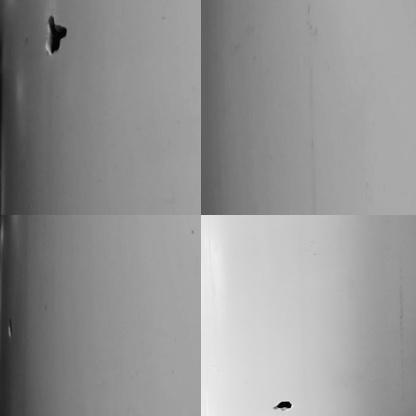kongdong: (43, 13, 72, 59), (271, 398, 296, 410)
